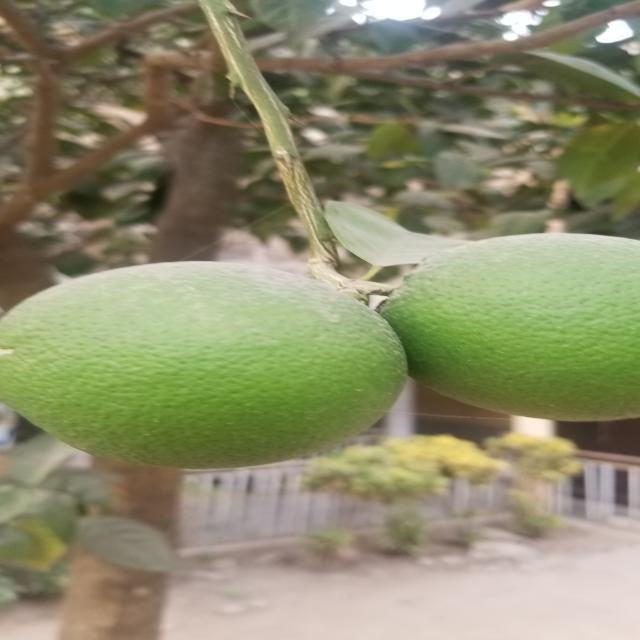agrume: (6, 260, 411, 457), (385, 230, 640, 419)
